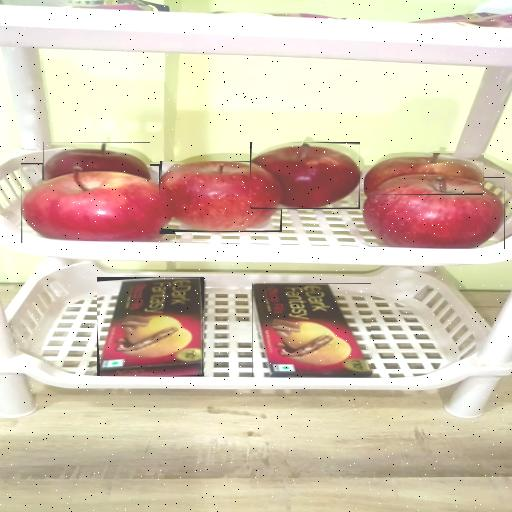Apple: (22, 165, 175, 243), (363, 178, 504, 249), (161, 161, 282, 231), (251, 142, 360, 208), (364, 153, 484, 195), (44, 143, 150, 180)
Choco Fills: (253, 283, 371, 377), (100, 277, 203, 376), (272, 321, 336, 362)
